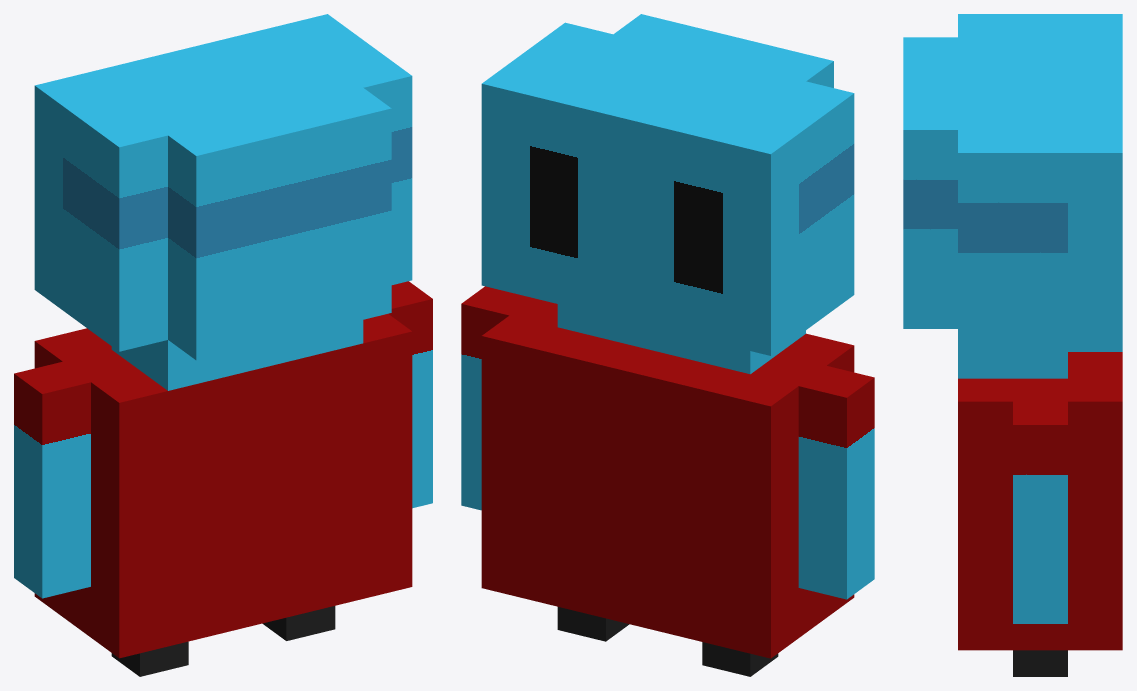
The model's file is alien_engi1c.dae.
3 views of the same model, side by side, from view 1: azimuth 30°, elevation 25°; view 2: azimuth 150°, elevation 25°; view 3: azimuth 270°, elevation 25° (orthographic). The views are drawn at different scales.
Visible parts, largest first — view 1: alien_engi1c; view 2: alien_engi1c; view 3: alien_engi1c.
Part boxes in pixels (x1,y1,x2,y2): alien_engi1c: [14, 14, 432, 676]; alien_engi1c: [461, 14, 874, 676]; alien_engi1c: [903, 14, 1122, 676].
Bounding box in the file's own units: 0.8 × 0.4 × 1.1.
